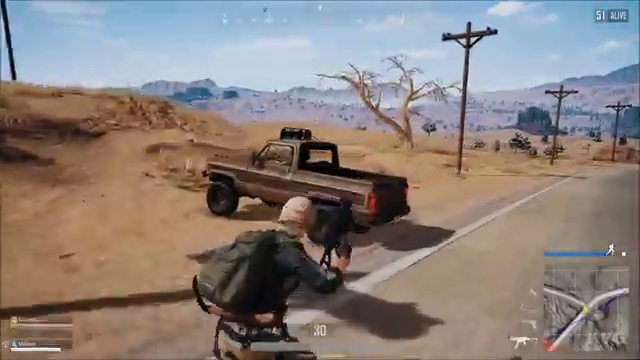Player: (173, 197, 387, 320)
